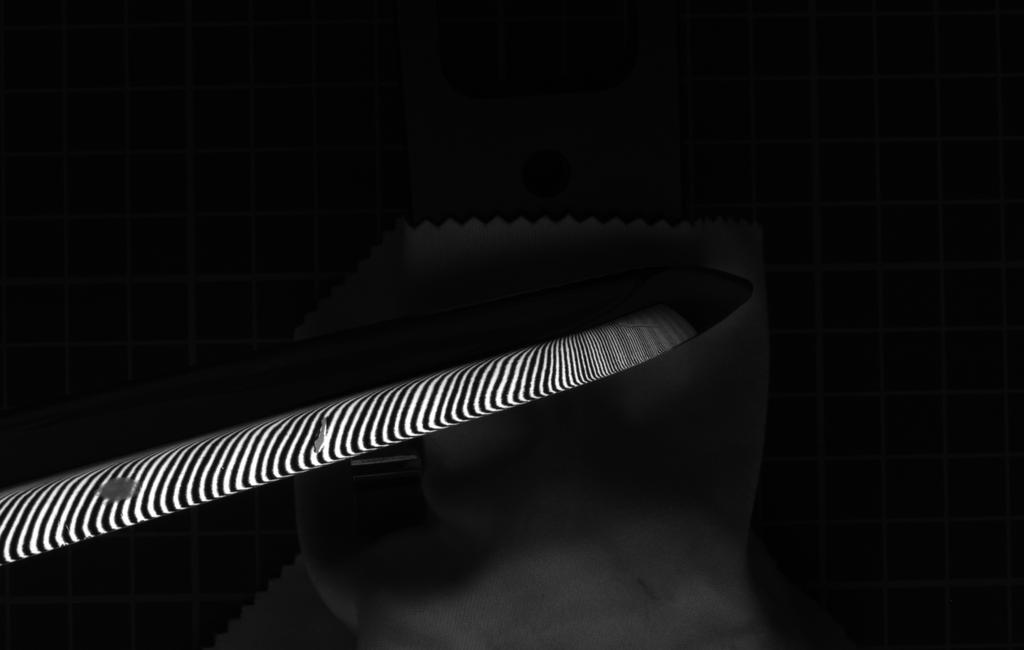Pitting: (93, 471, 146, 508)
Scratch: (309, 413, 334, 456)
